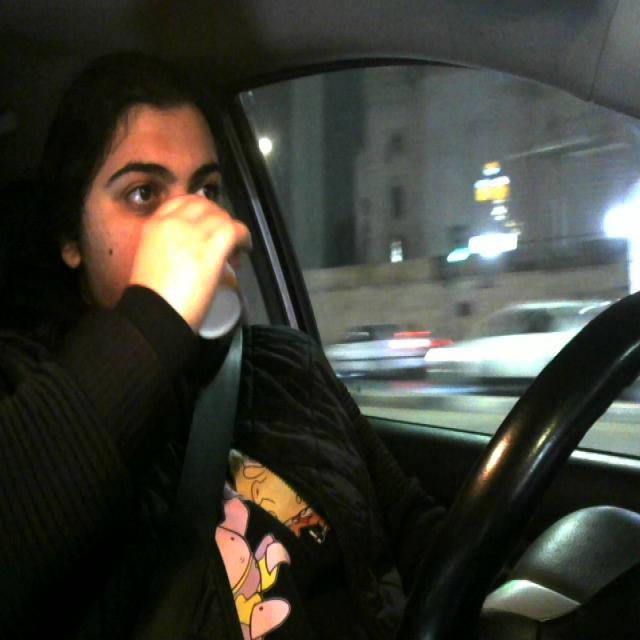drinking: (164, 216, 248, 360)
